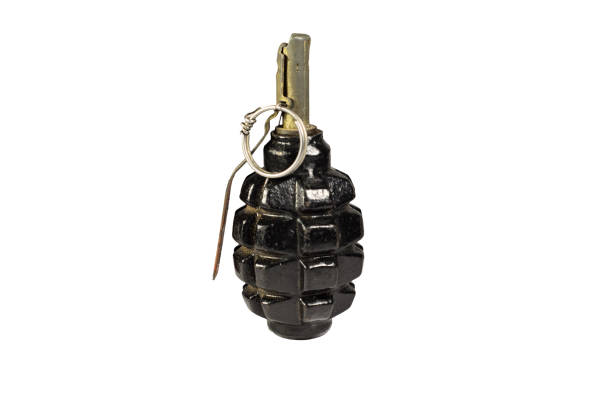e1: (215, 43, 370, 343)
